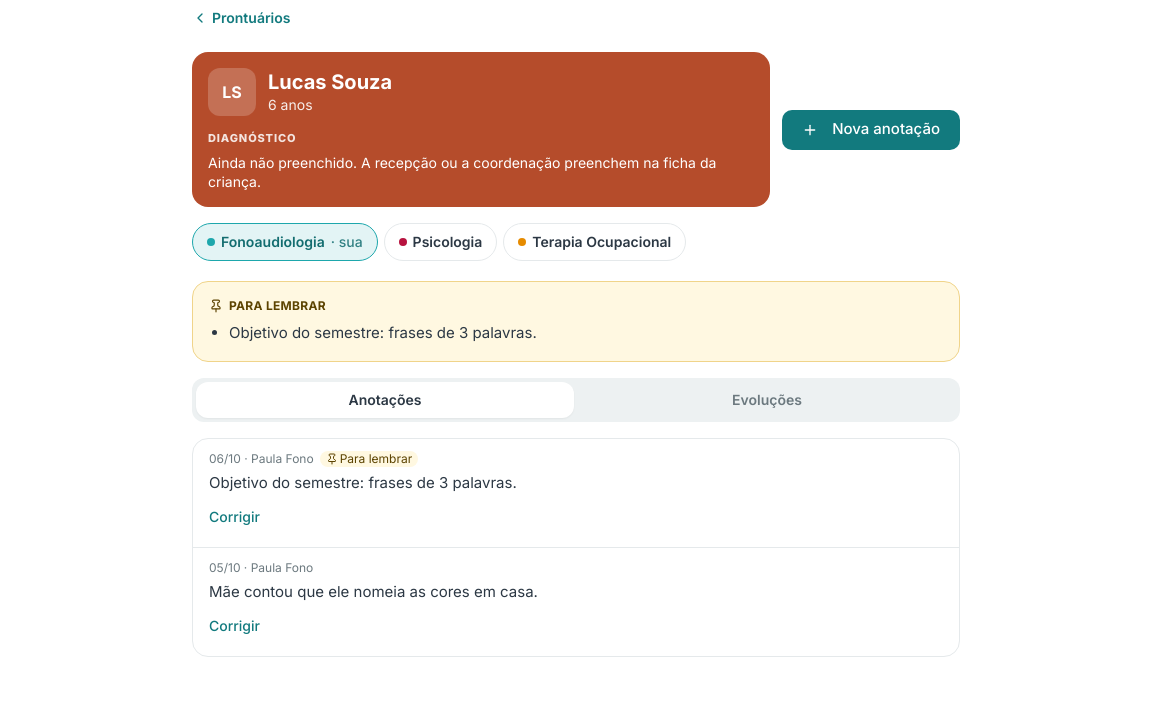
Test: escreve uma anotação nova e fixa em "Para lembrar"
Check: the heading "Lucas Souza" is shown, box [268,70,392,94]
Click the button "Nova anotação" at (871, 130), box [782,110,960,150]
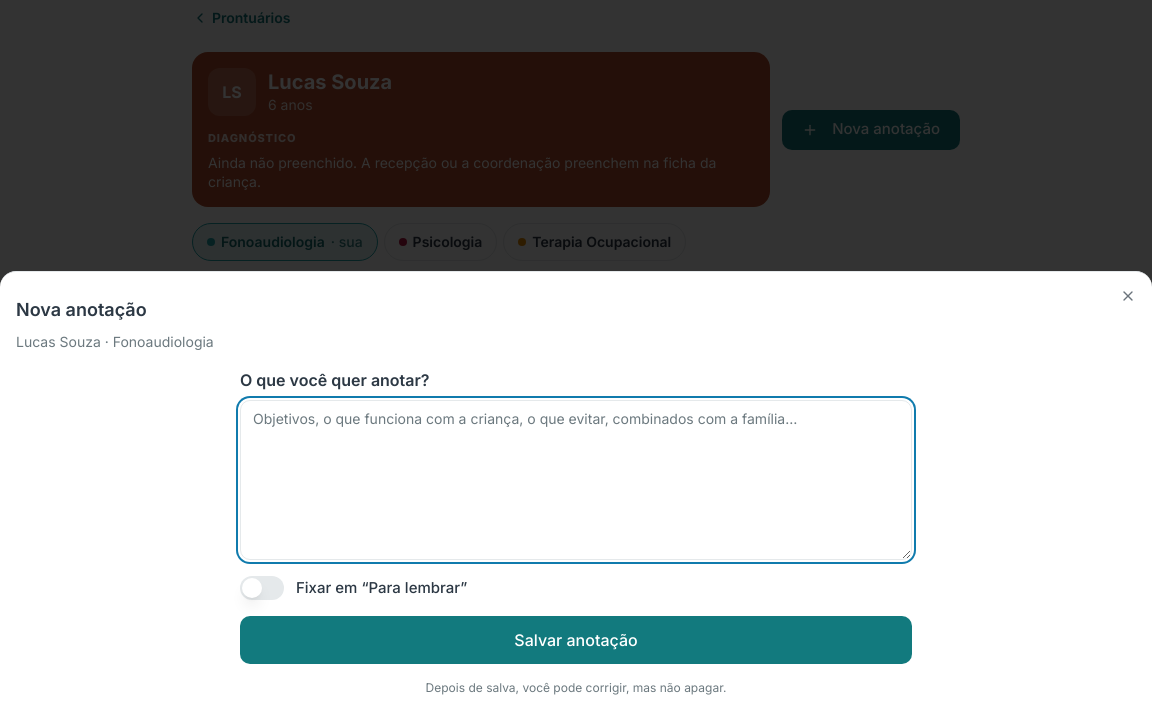
Click the button "Salvar anotação" at (576, 640), box [240,616,912,664]
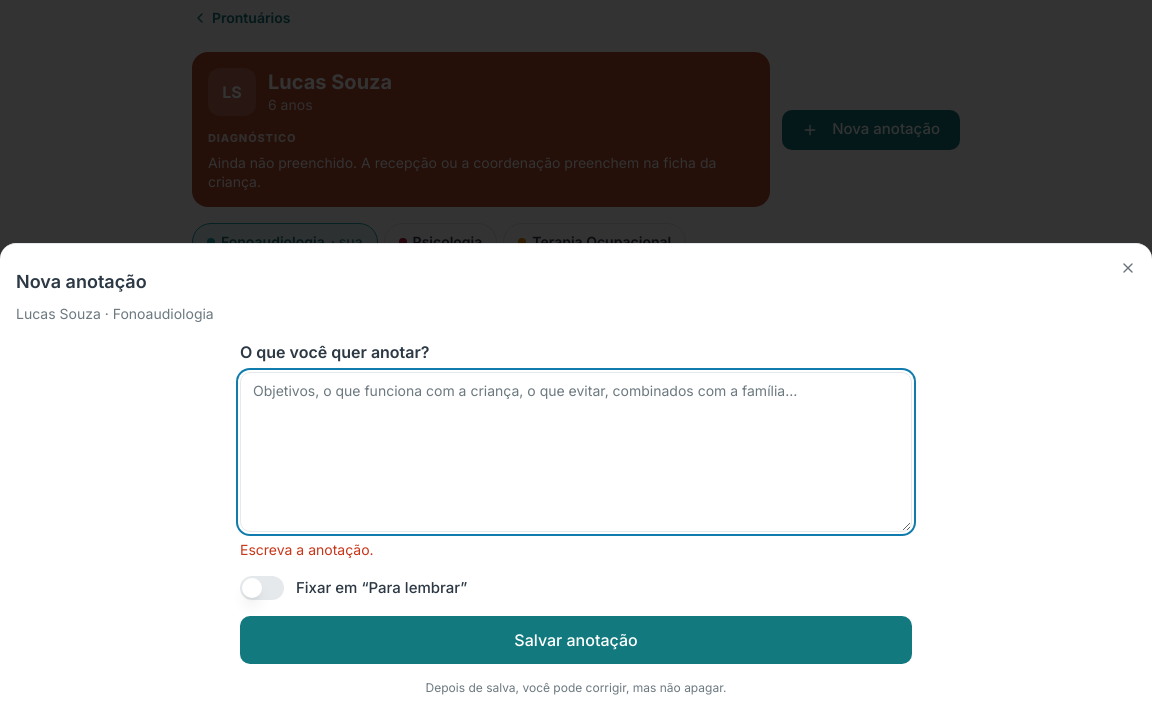
Check: the text "Escreva a anotação." is shown, box [240,541,374,558]
Replace the text in the text box labelled "O que você quer anotar?" with "Evitar barulho alto no início." at (576, 452), box [240,372,912,532]
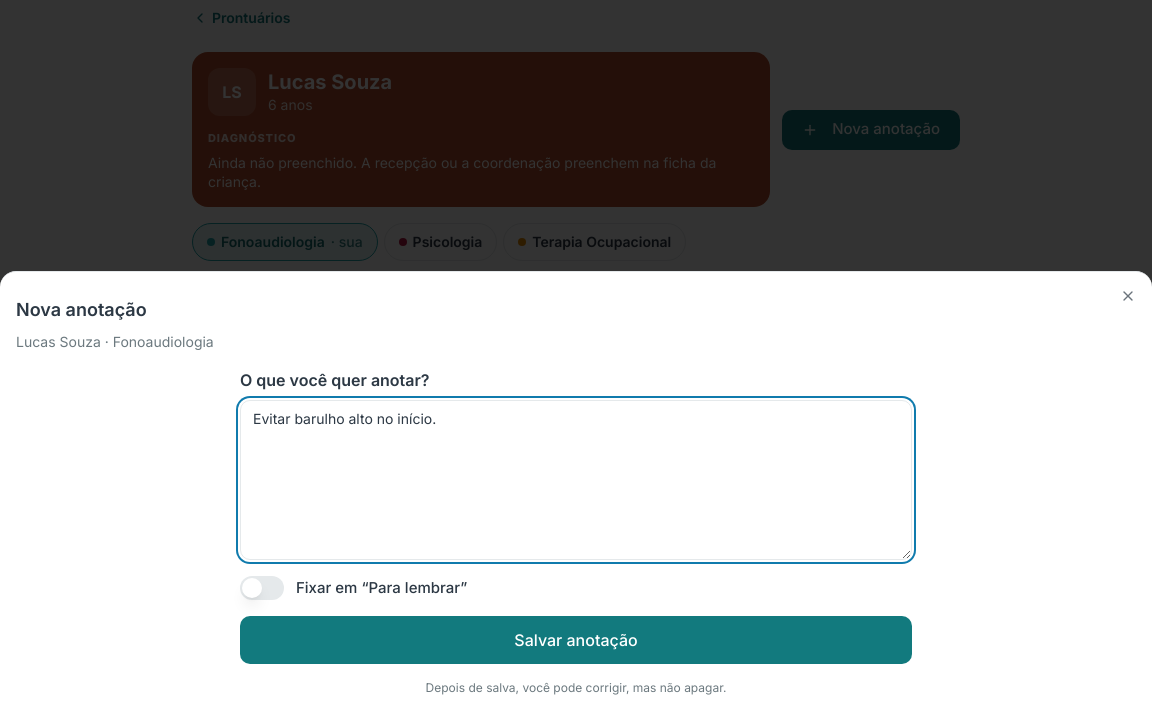
Click the switch named "Fixar em" at (262, 588), box [240,576,284,600]
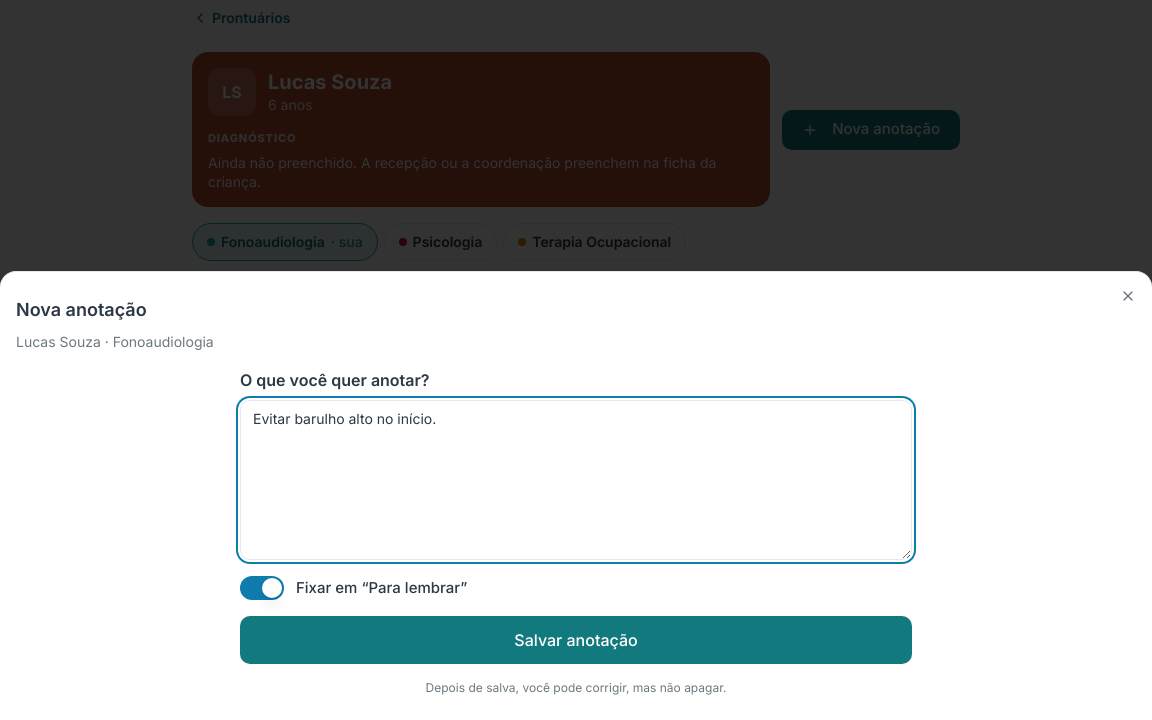
Click the button "Salvar anotação" at (576, 640), box [240,616,912,664]
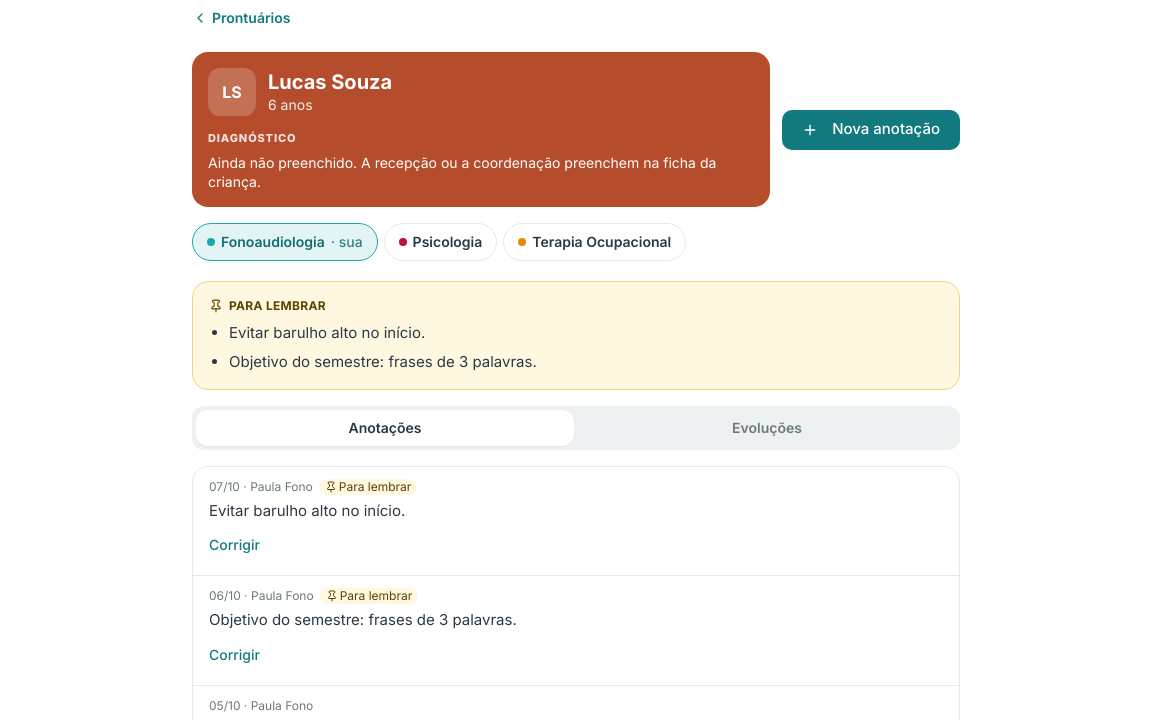
Check: the list item "Evitar barulho alto no início." is shown, box [229,323,425,342]
